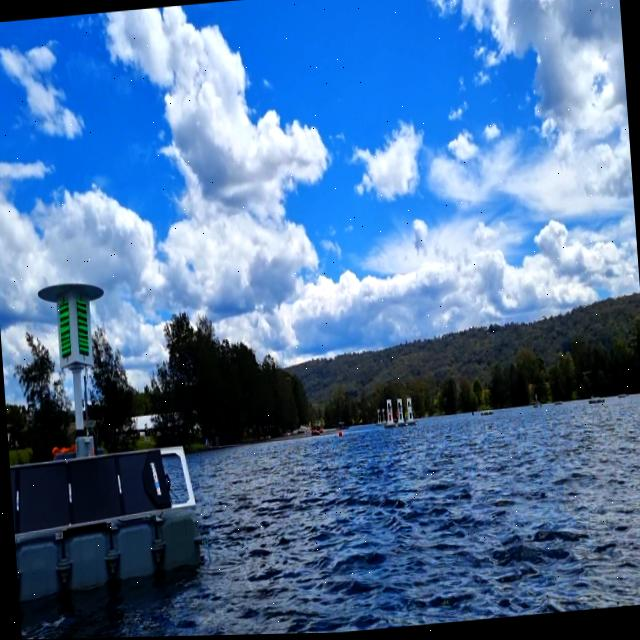led: (74, 294, 90, 359), (57, 299, 72, 362)
